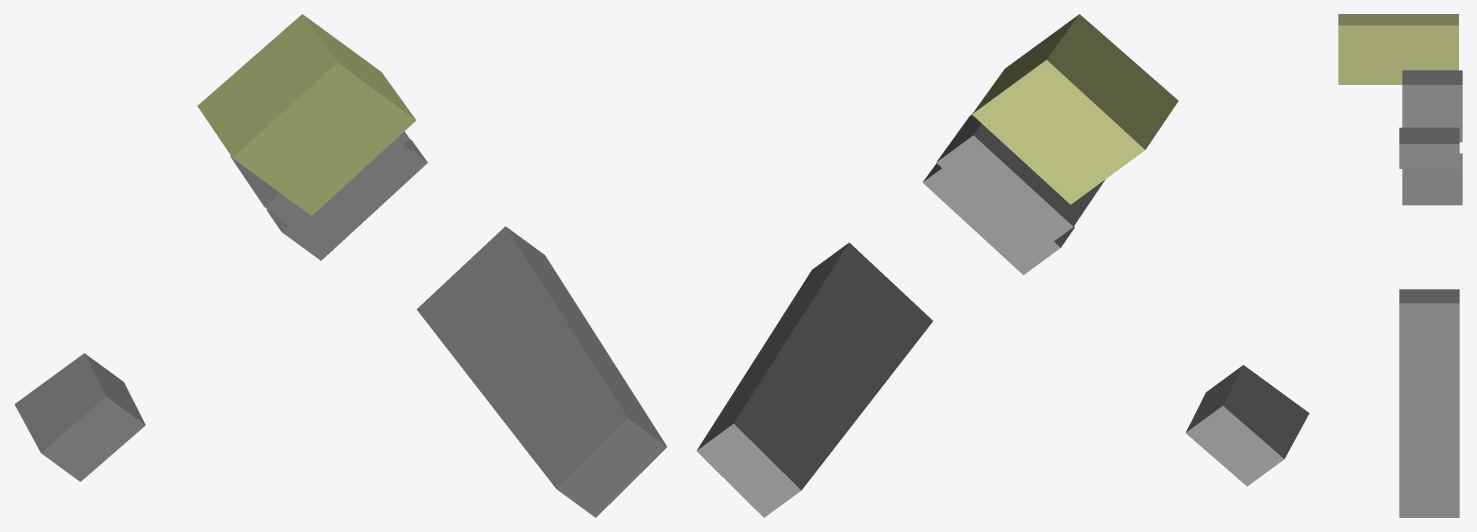
3 renders of one model, left to right at view 1: azimuth 30°, elevation 25°; view 2: azimuth 150°, elevation 25°; view 3: azimuth 270°, elevation 25°, orthographic. The views are drawn at different scales.
Visible parts, largest first — view 1: 0_1_1_3_2_2_3_3_2_0; view 2: 0_1_1_3_2_2_3_3_2_0; view 3: 0_1_1_3_2_2_3_3_2_0.
Part boxes in pixels (box(x1,y1,x2,y2)): 0_1_1_3_2_2_3_3_2_0: box(14, 14, 666, 517); 0_1_1_3_2_2_3_3_2_0: box(696, 14, 1309, 517); 0_1_1_3_2_2_3_3_2_0: box(1338, 14, 1462, 517).
Size of the model in its own units: 26.75 by 22.46 by 6.18.
